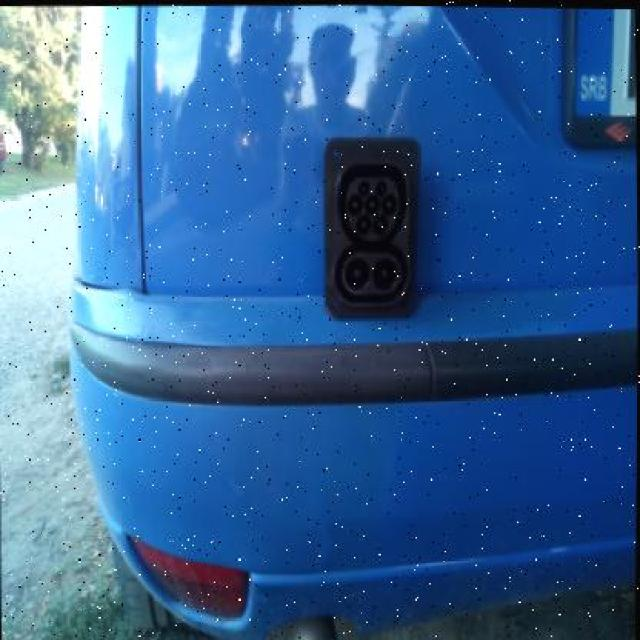CCS2: (312, 122, 435, 331)
